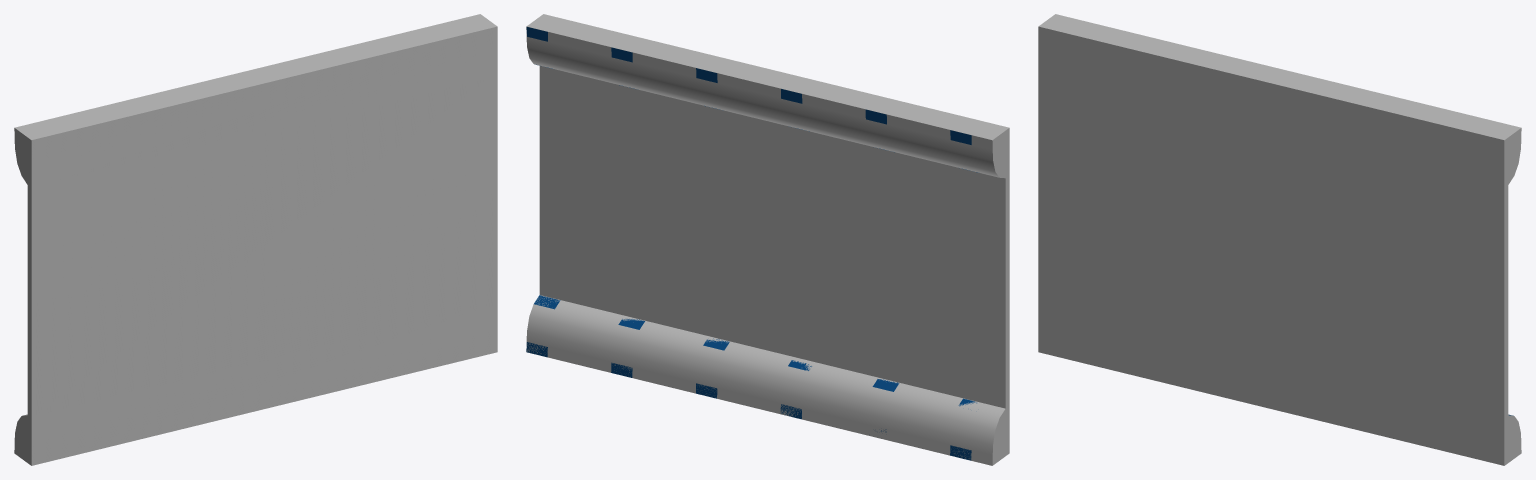
Rendered from Basement_Wall_L.fbx.
3 views of the same model, side by side, from view 1: azimuth 30°, elevation 25°; view 2: azimuth 150°, elevation 25°; view 3: azimuth 330°, elevation 25° (orthographic).
Visible parts, largest first — view 1: Basemenet_Wall; view 2: Basemenet_Wall; view 3: Basemenet_Wall.
Boxes of the visible parts, x1=… form: Basemenet_Wall: x1=14, y1=14, x2=497, y2=465; Basemenet_Wall: x1=526, y1=14, x2=1009, y2=465; Basemenet_Wall: x1=1038, y1=14, x2=1521, y2=465.
Bounding box in the file's own units: 300 × 200 × 19.08.
